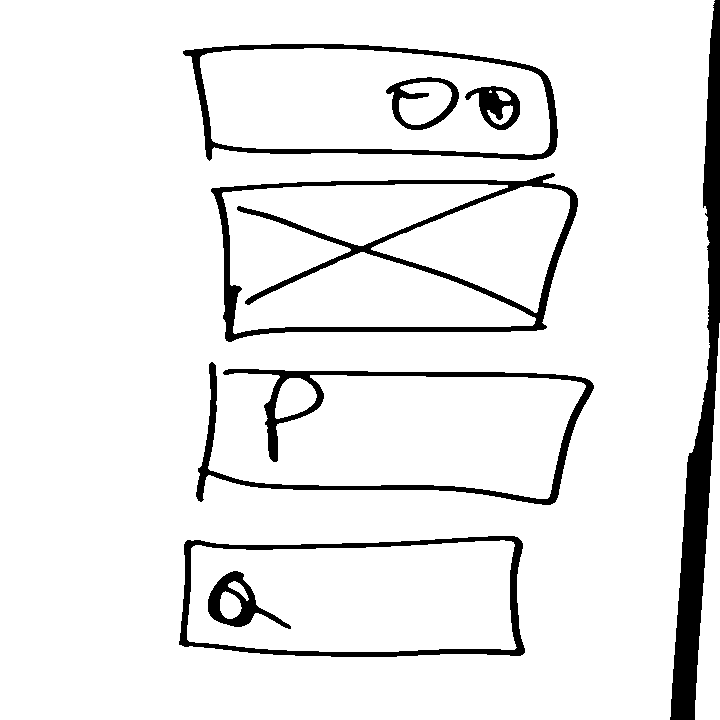inline stepper bar: (180, 40, 566, 165)
paragraph: (194, 359, 597, 509)
picture: (202, 176, 583, 344)
search bar: (176, 532, 535, 663)
